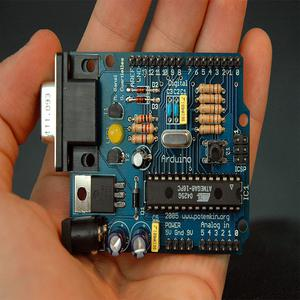duino: (43, 36, 254, 256)
